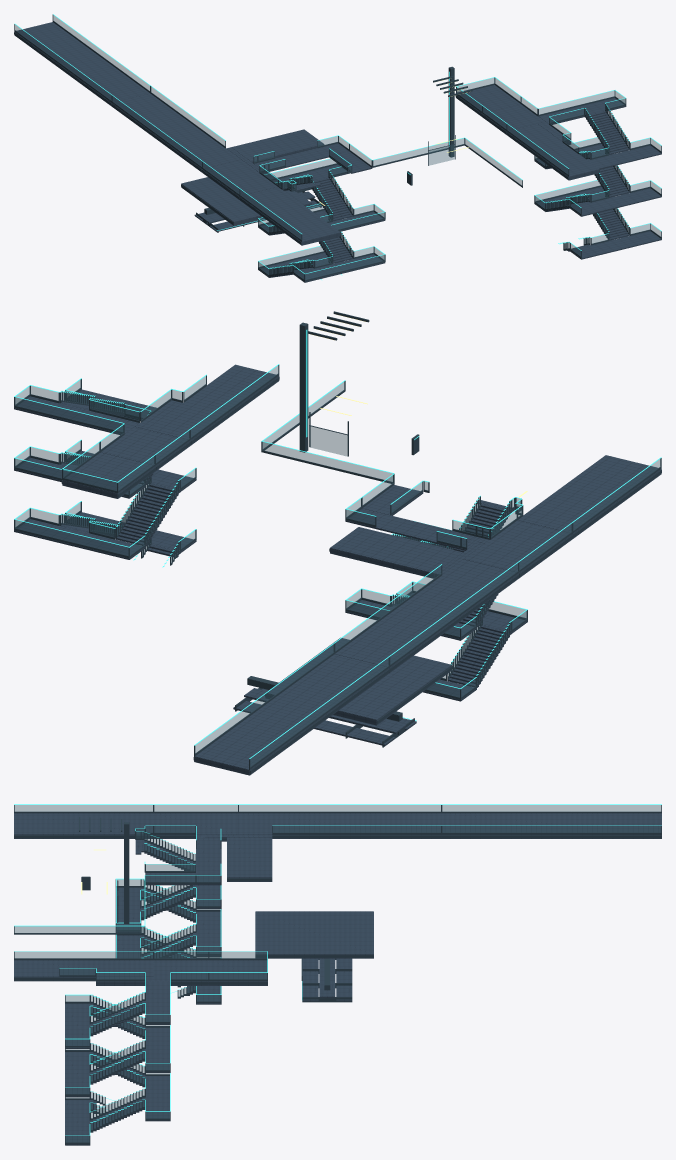
The model's file is v02-detailed-04-06.glb.
The picture shows the model from 3 angles, top to bottom: view 1: azimuth 30°, elevation 25°; view 2: azimuth 150°, elevation 25°; view 3: azimuth 270°, elevation 25°; orthographic projection. The views are drawn at different scales.
Visible parts, largest first — view 1: v02-detailed-04-06; view 2: v02-detailed-04-06; view 3: v02-detailed-04-06.
Boxes of the visible parts, x1=… form: v02-detailed-04-06: x1=14, y1=14, x2=661, y2=282; v02-detailed-04-06: x1=14, y1=311, x2=661, y2=775; v02-detailed-04-06: x1=14, y1=804, x2=661, y2=1145.
Bounding box in the file's own units: 58.85 × 29.42 × 76.5.
5 materials, 1 textured.
